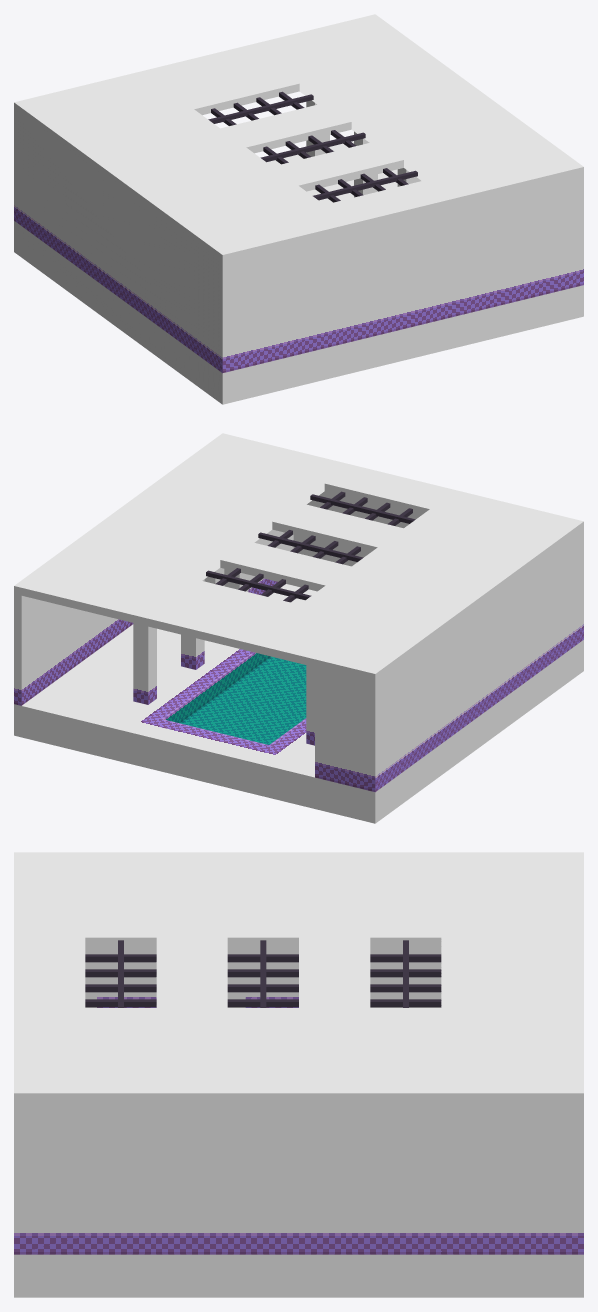
Rendered from Piscina.gltf.
3 renders of one model, top to bottom at view 1: azimuth 30°, elevation 25°; view 2: azimuth 150°, elevation 25°; view 3: azimuth 270°, elevation 25°, orthographic. The views are drawn at different scales.
Visible parts, largest first — view 1: Ceiling, Walls, Ground, LampGrid1, LampGrid3, LampGrid2; view 2: Ceiling, Walls, Ground, LampGrid2, LampGrid3, LampGrid1; view 3: Ceiling, Walls, Ground, LampGrid1, LampGrid2, LampGrid3.
Part boxes in pixels (x1,y1,x2,y2): Ceiling: [14, 14, 583, 262]; Walls: [14, 100, 583, 373]; Ground: [14, 141, 583, 404]; LampGrid1: [260, 130, 365, 164]; LampGrid3: [208, 91, 313, 125]; LampGrid2: [313, 168, 417, 202]; Ceiling: [14, 433, 583, 681]; Walls: [14, 491, 583, 792]; Ground: [14, 584, 583, 823]; LampGrid2: [310, 491, 415, 525]; LampGrid3: [206, 568, 311, 602]; LampGrid1: [258, 530, 363, 564]; Ceiling: [14, 852, 583, 1103]; Walls: [14, 948, 583, 1254]; Ground: [14, 1254, 583, 1297]; LampGrid1: [227, 940, 298, 1007]; LampGrid2: [85, 940, 156, 1007]; LampGrid3: [370, 940, 441, 1007].
Size of the model in its own units: 3 by 1.19 by 3.
Materials: 1 (1 with a texture image).
